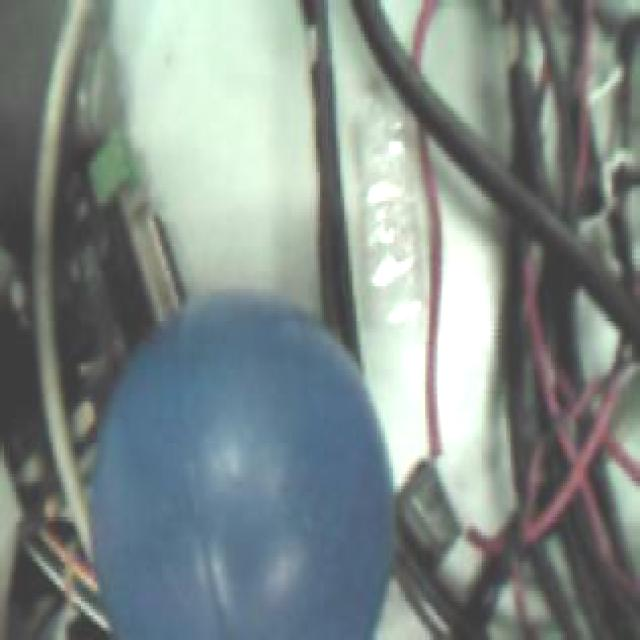BallPurple: (91, 289, 393, 640)
